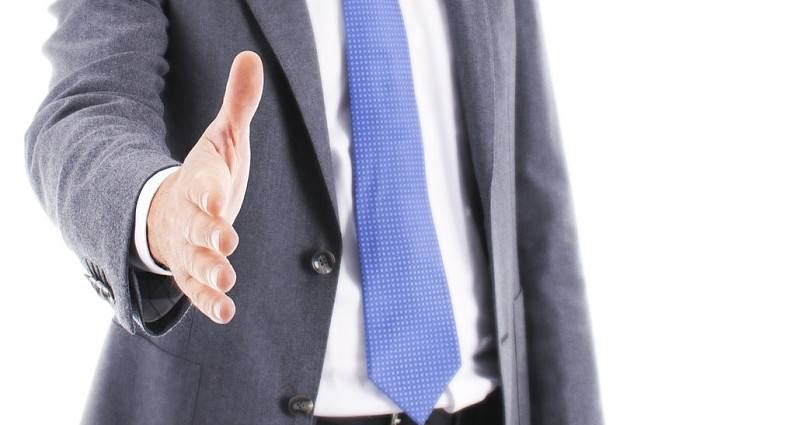no-phone: (149, 46, 270, 329)
